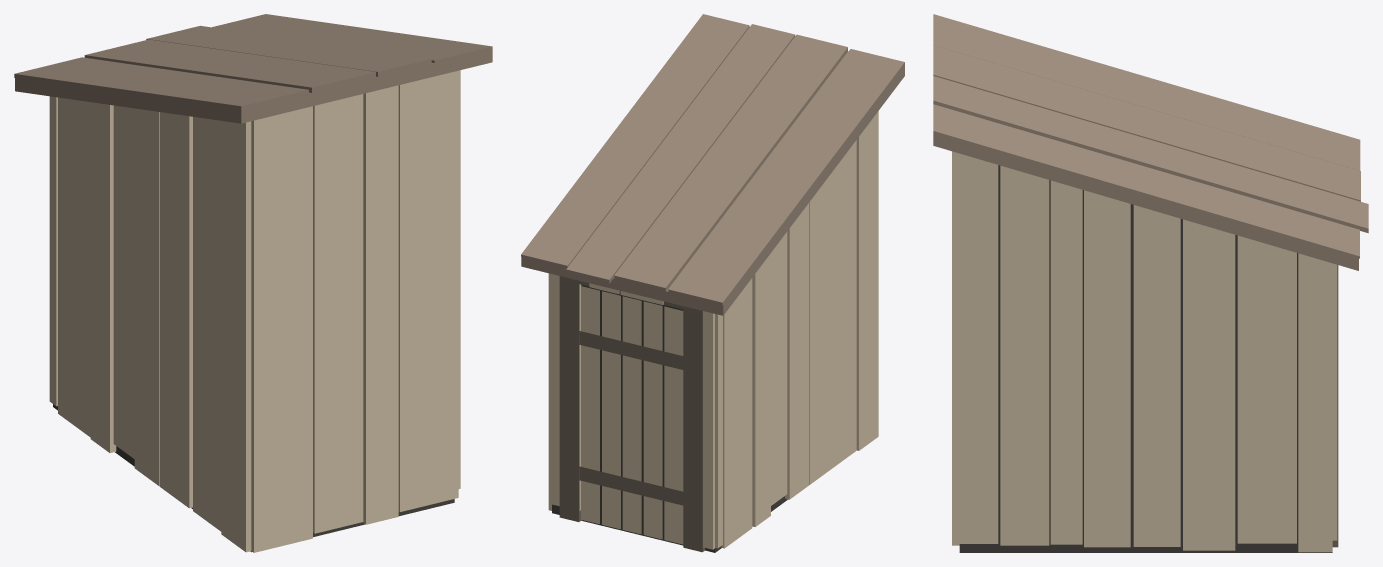
File: recon_1835_blk_randolph_franklin_a3_08__inferred_1835.glb
The picture shows the model from 3 angles, left to right: view 1: azimuth 30°, elevation 25°; view 2: azimuth 150°, elevation 25°; view 3: azimuth 270°, elevation 25°; orthographic projection. The views are drawn at different scales.
Parts seen in each view (by area): view 1: recon_1835_blk_randolph_franklin_a3_08__inferred_1835; view 2: recon_1835_blk_randolph_franklin_a3_08__inferred_1835; view 3: recon_1835_blk_randolph_franklin_a3_08__inferred_1835.
Part boxes in pixels (<box>): recon_1835_blk_randolph_franklin_a3_08__inferred_1835: <box>14,14,492,552</box>; recon_1835_blk_randolph_franklin_a3_08__inferred_1835: <box>521,14,904,552</box>; recon_1835_blk_randolph_franklin_a3_08__inferred_1835: <box>933,14,1368,552</box>.
Bounding box in the file's own units: 1.67 × 2.94 × 2.66.
